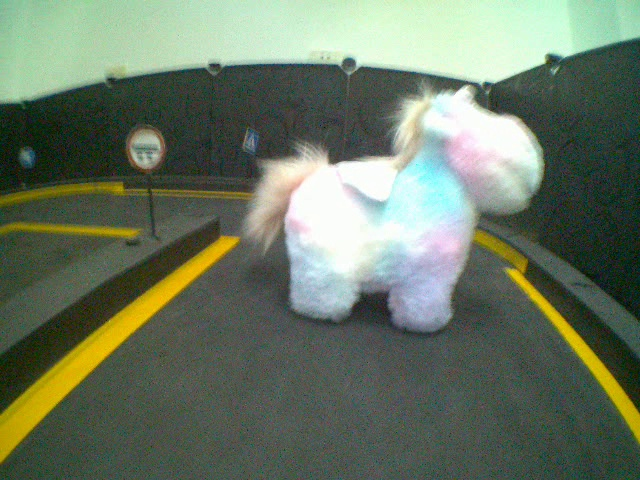unicorn: (235, 76, 547, 339)
